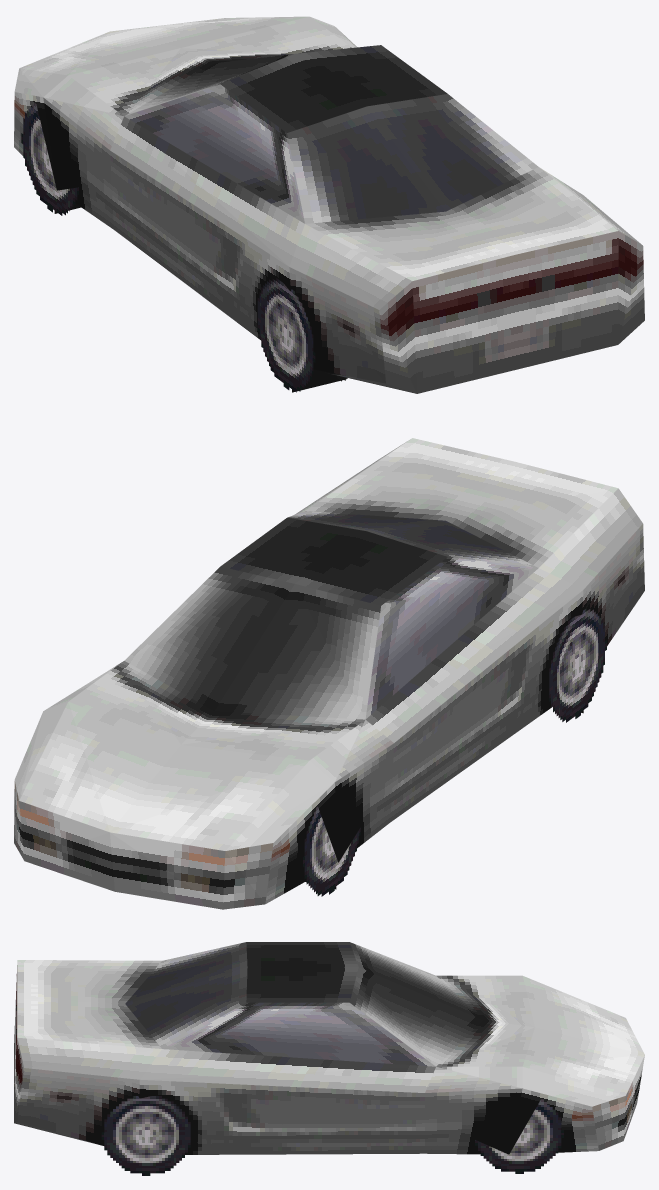
The model's file is car-ansx.glb.
3 renders of one model, top to bottom at view 1: azimuth 30°, elevation 25°; view 2: azimuth 150°, elevation 25°; view 3: azimuth 270°, elevation 25°, orthographic. The views are drawn at different scales.
Parts seen in each view (by area): view 1: car-ansx; view 2: car-ansx; view 3: car-ansx.
Boxes of the visible parts, bbox=[...] form: car-ansx: bbox=[14, 16, 644, 393]; car-ansx: bbox=[14, 438, 644, 909]; car-ansx: bbox=[14, 942, 644, 1175].
Size of the model in its own units: 1.83 by 1.18 by 4.39.
Materials: 28 (28 with a texture image).
